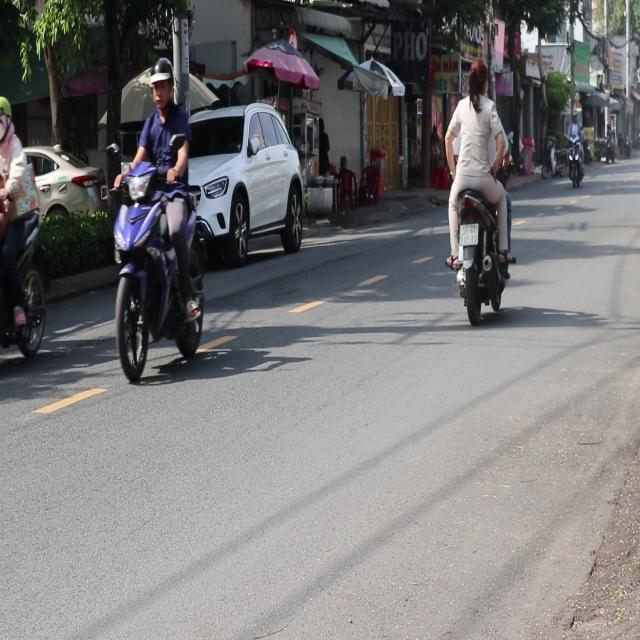helmet: (149, 56, 176, 111), (0, 94, 13, 141)
licenseplate: (109, 54, 209, 382), (442, 54, 515, 323), (0, 91, 52, 377)
motorcyclist: (466, 56, 489, 99)
nohelmet: (460, 224, 478, 244)
